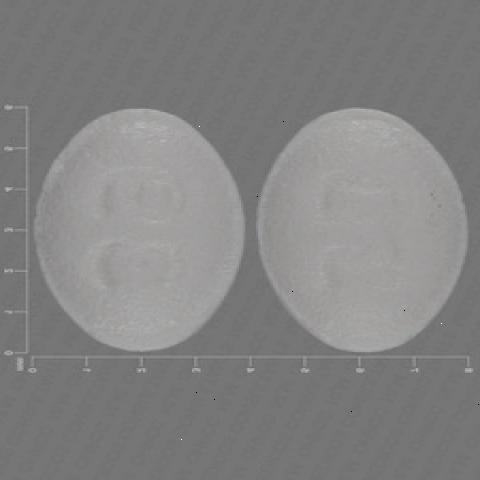Pill: (23, 45, 256, 384), (248, 72, 474, 384)
